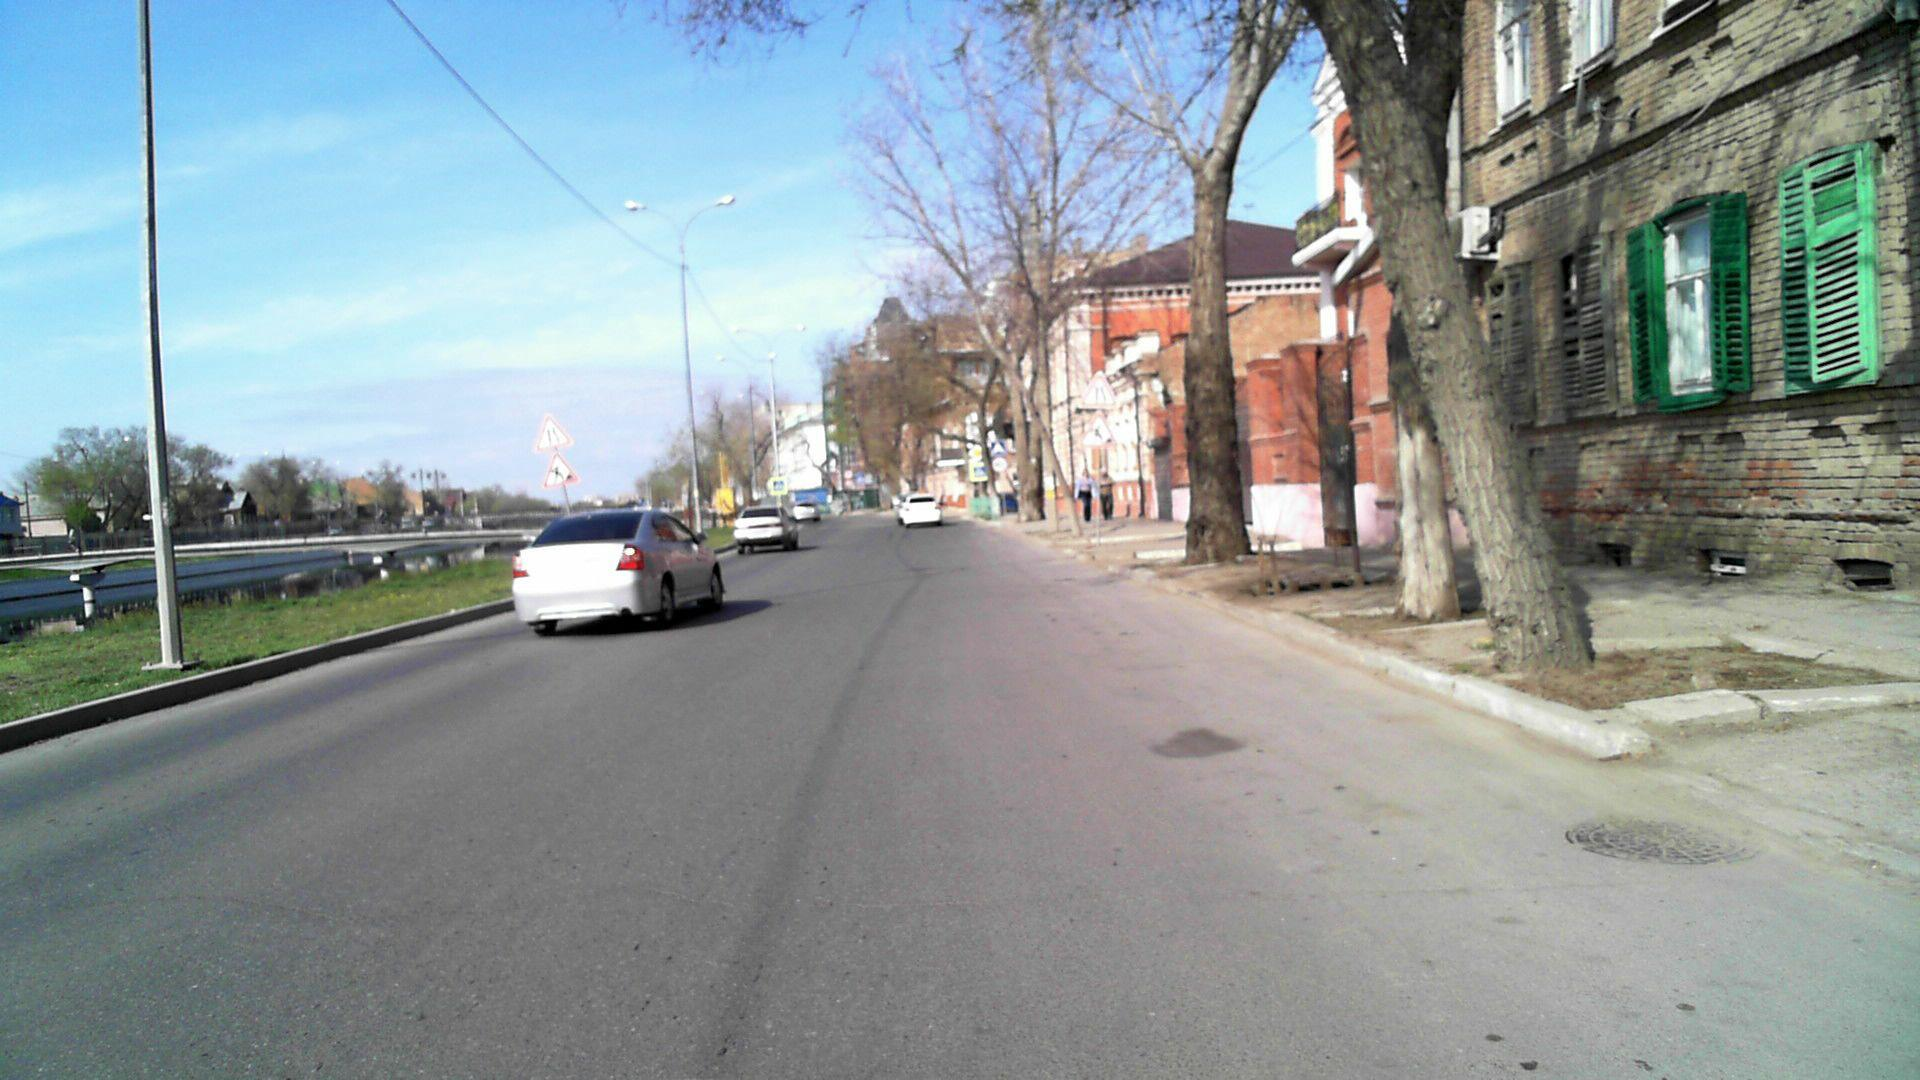1_20_2: (530, 407, 572, 452)
1_25: (542, 454, 579, 489)
2_1: (969, 446, 984, 462)
3_24: (992, 456, 1009, 473)
5_19_1: (971, 467, 988, 479)
5_19_2: (773, 479, 785, 492)
5_20: (989, 439, 1007, 456)
